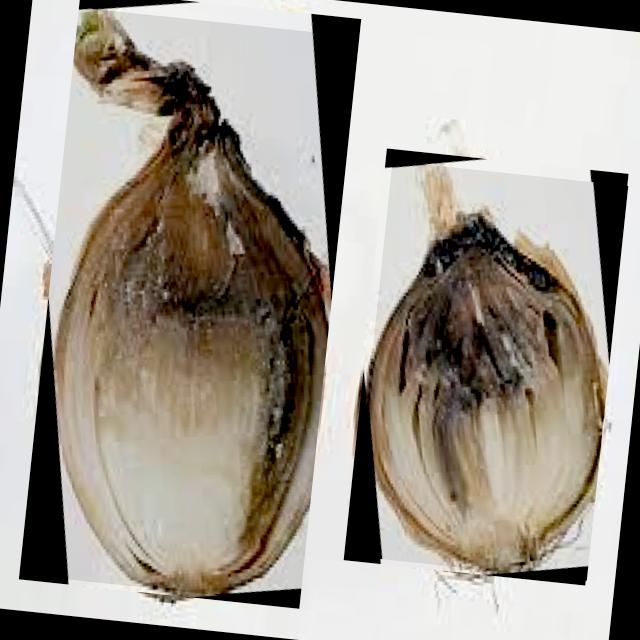rotten: (52, 9, 329, 594), (369, 164, 606, 572)
